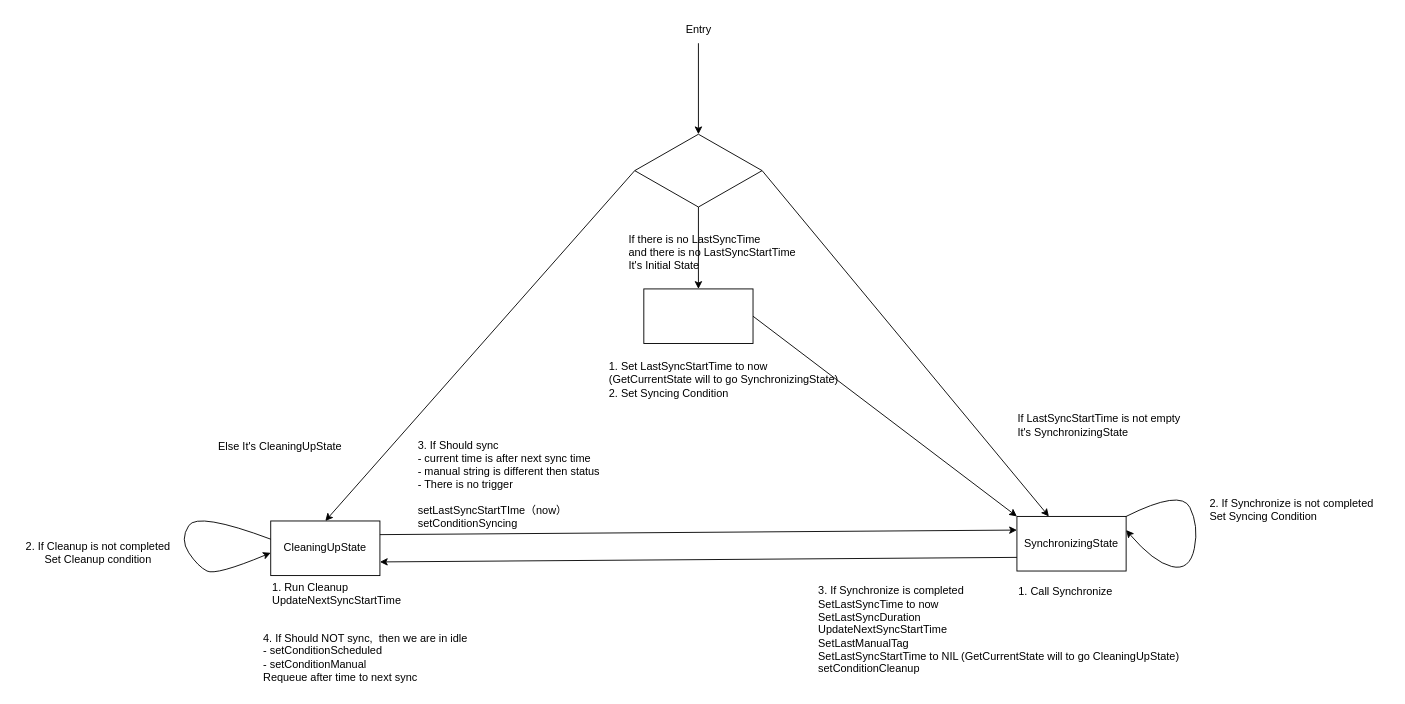
This 1405x704 diagram has some shape labels left out. Each missing label, with the centre of its shape:
"GetCurrentState" goes at (x=698, y=170).
"InitialState" goes at (x=698, y=316).
